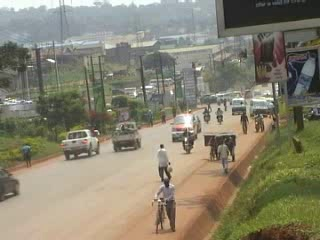Car: (0, 160, 21, 203), (170, 112, 197, 145), (190, 114, 203, 133)
Motorcycle: (180, 127, 196, 156), (199, 106, 212, 125), (214, 109, 224, 125)
